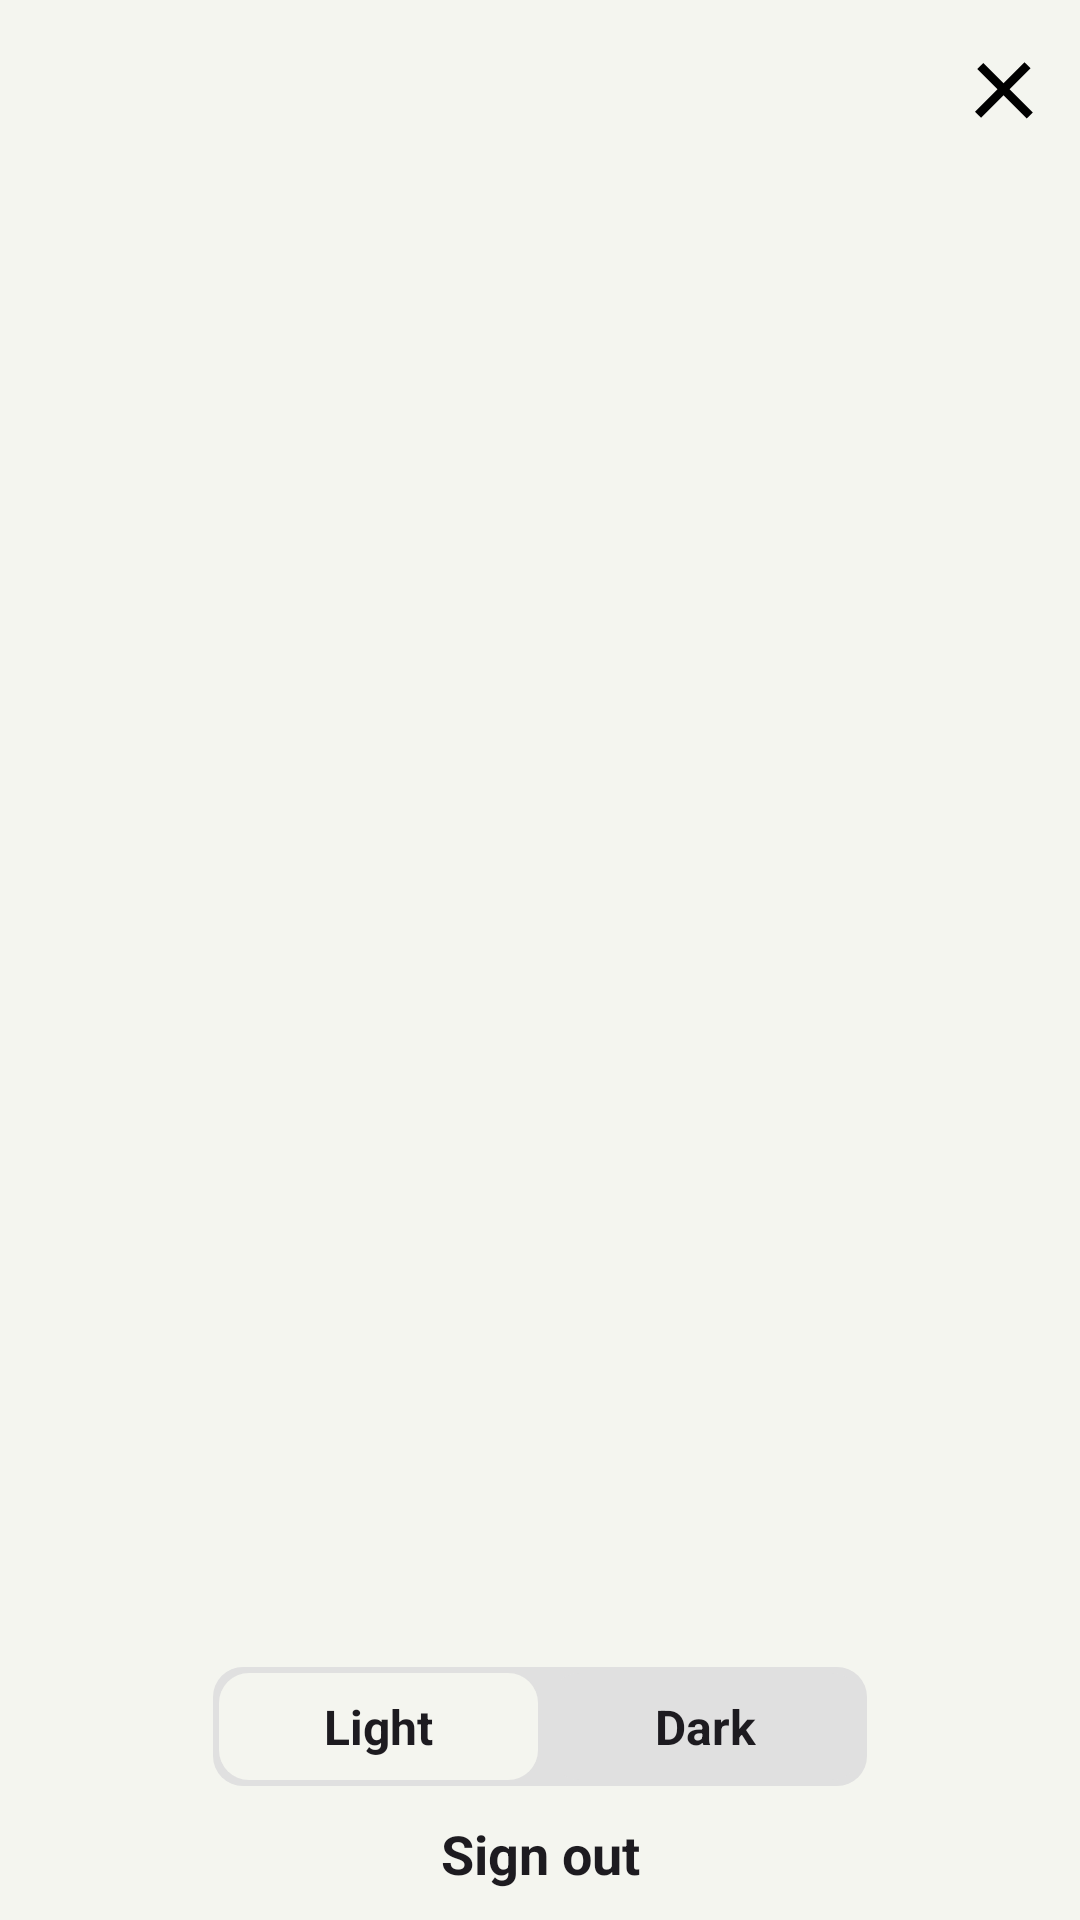

Point at icon controls on the screen. Image size 1080 × 1920, points as [x,y].
Close: [1004,90]
